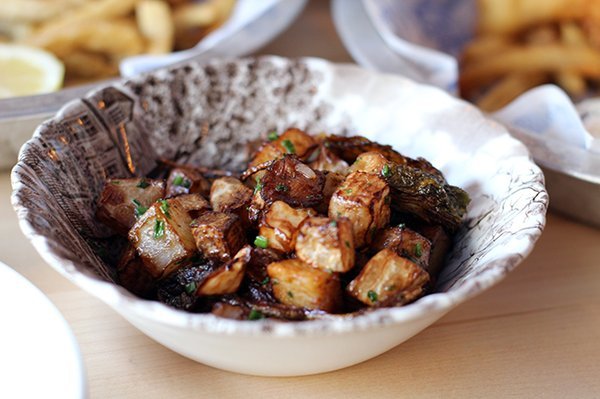curry: (14, 4, 599, 393)
